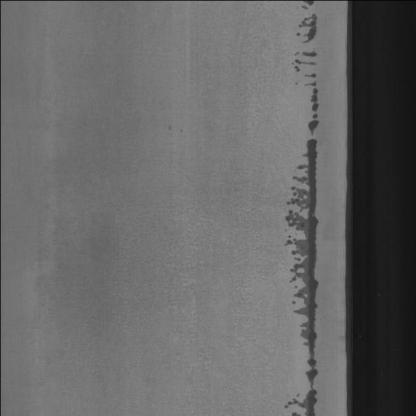oil_spot: (274, 0, 326, 413)
